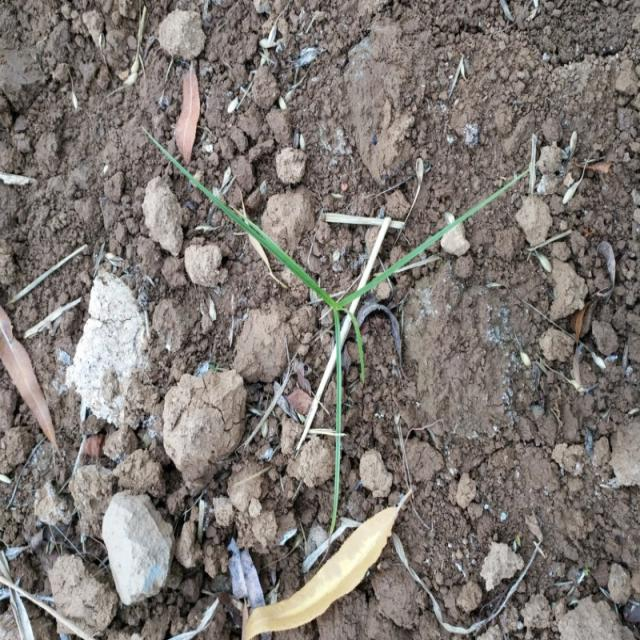sedge: (146, 76, 519, 457)
